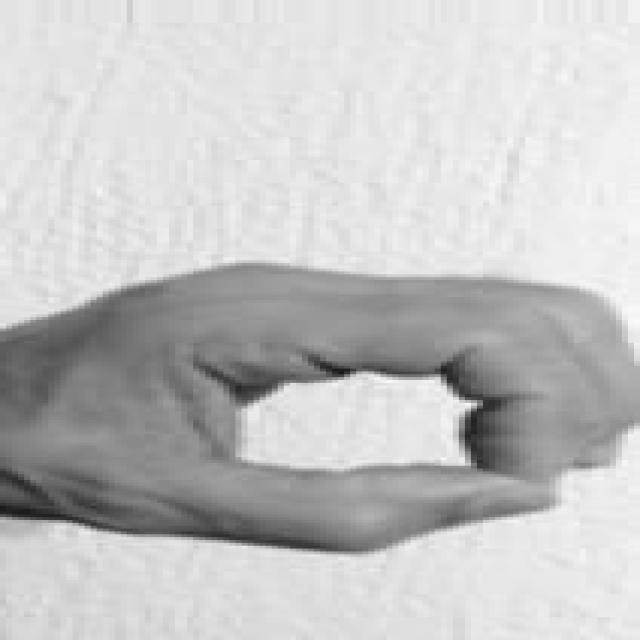O: (2, 249, 640, 565)
